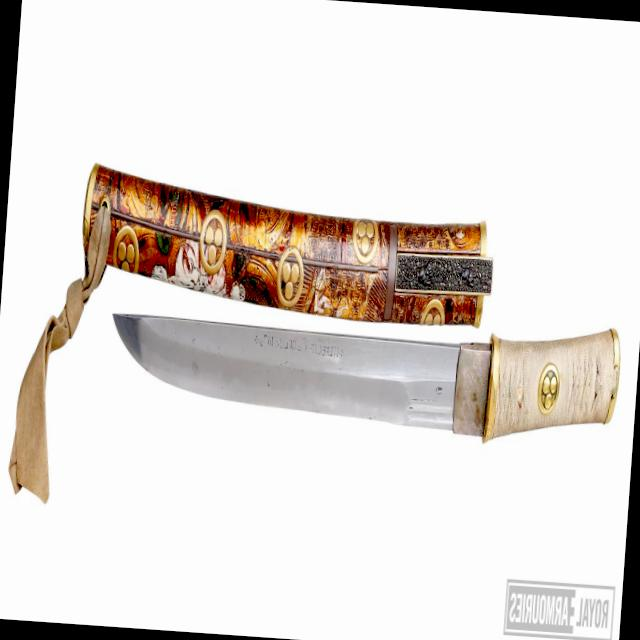short sword: (0, 126, 637, 564)
